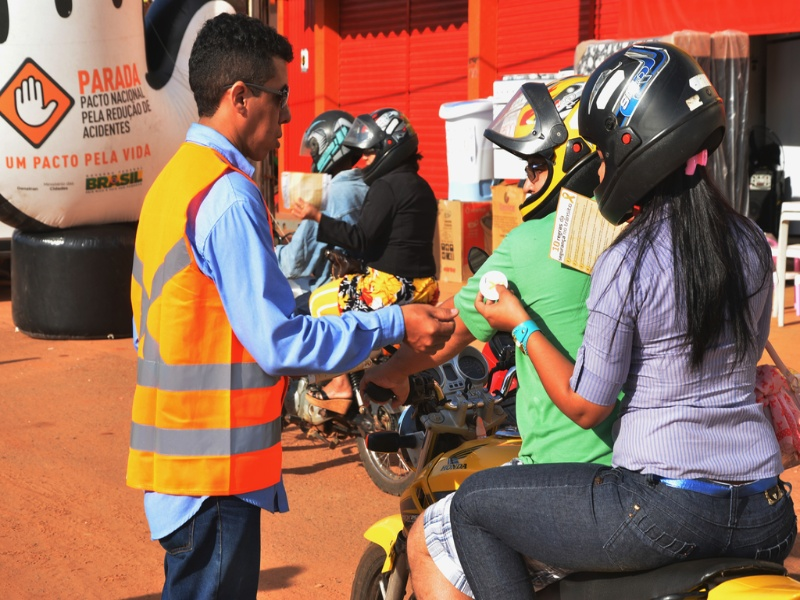Baret: (579, 40, 727, 138)
